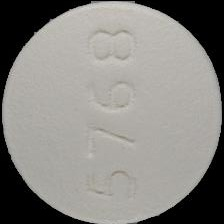68258-7095: (0, 0, 224, 224)
